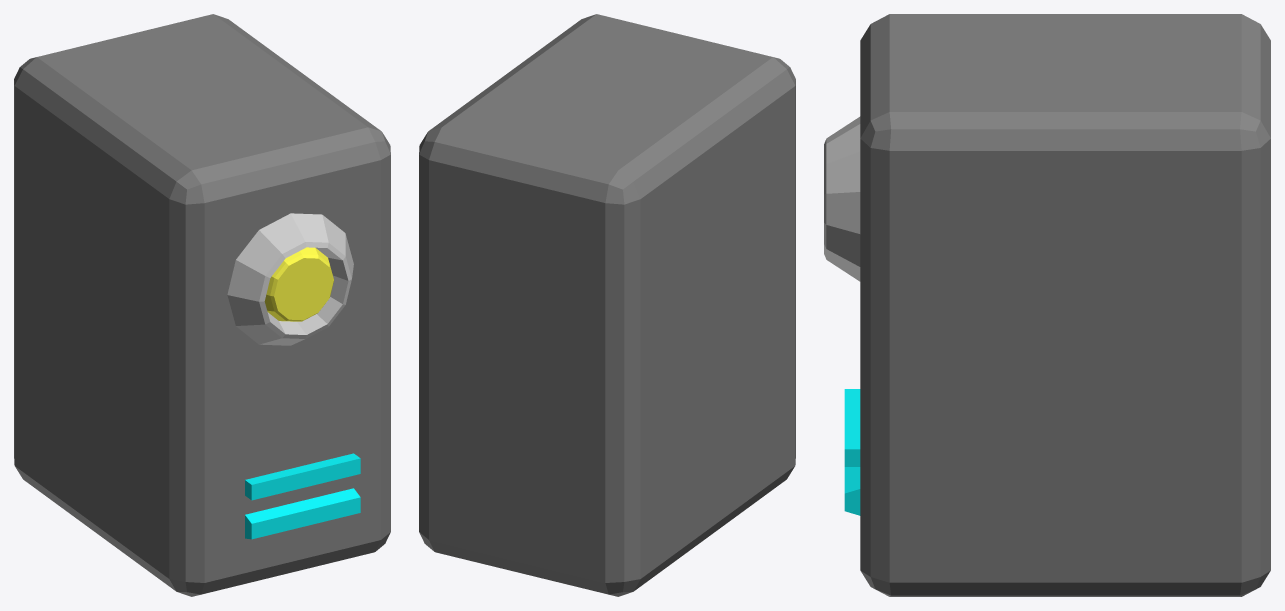
Rendered from Module_007.fbx.
3 views of the same model, side by side, from view 1: azimuth 30°, elevation 25°; view 2: azimuth 150°, elevation 25°; view 3: azimuth 270°, elevation 25° (orthographic). The views are drawn at different scales.
Parts seen in each view (by area): view 1: Module_007; view 2: Module_007; view 3: Module_007.
Part boxes in pixels (x1=…): Module_007: x1=14, y1=14, x2=390, y2=596; Module_007: x1=419, y1=14, x2=795, y2=596; Module_007: x1=824, y1=14, x2=1270, y2=596.
Size of the model in its own units: 141 by 261 by 218.
